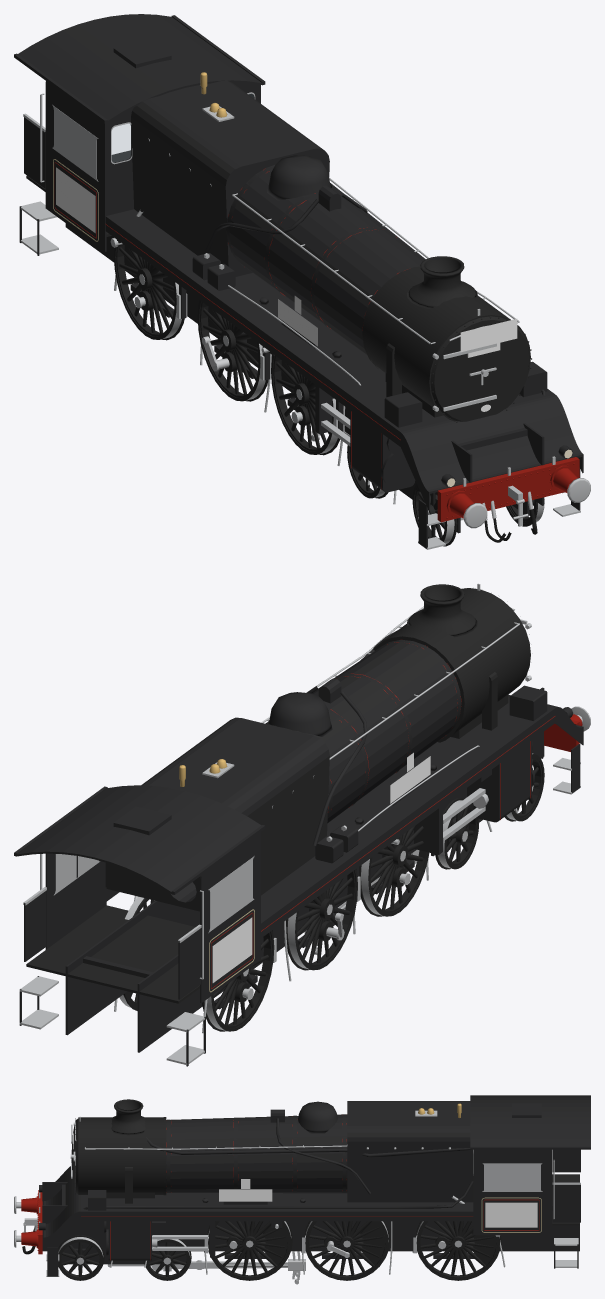
File: engine_lod1.glb
3 renders of one model, top to bottom at view 1: azimuth 30°, elevation 25°; view 2: azimuth 150°, elevation 25°; view 3: azimuth 270°, elevation 25°, orthographic. The views are drawn at different scales.
Parts seen in each view (by area): view 1: engine_static_paint_black, engine_static_smokebox, engine_static_steel, engine_static_paint_red, ws_trail_wheel, ws_drive_wheel, ws_lead_wheel, engine_static_decal_cabnum, engine_static_decal_headboard, cab_gate_R_paint_black, ws_bogieFront_wheel, engine_static_lining_red (+1 smaller); view 2: engine_static_paint_black, engine_static_smokebox, engine_static_steel, ws_drive_wheel, ws_lead_wheel, ws_trail_wheel, engine_static_decal_cabnum, ws_bogieRear_wheel, cab_gate_L_paint_black, cab_gate_R_paint_black, engine_static_lining_red, ws_bogieFront_wheel (+3 smaller); view 3: engine_static_paint_black, engine_static_smokebox, engine_static_steel, ws_drive_wheel, ws_lead_wheel, ws_trail_wheel, engine_static_decal_cabnum, ws_bogieFront_wheel, cab_gate_L_paint_black, ws_bogieRear_wheel, engine_static_lining_red, engine_static_paint_red (+5 smaller).
Part boxes in pixels (box(x1,y1,x2,y2)): engine_static_paint_black: box(14, 14, 583, 548); engine_static_smokebox: box(26, 150, 531, 422); engine_static_steel: box(20, 92, 590, 549); engine_static_paint_red: box(437, 457, 579, 522); ws_trail_wheel: box(114, 239, 184, 340); ws_drive_wheel: box(197, 300, 268, 401); ws_lead_wheel: box(271, 355, 339, 455); engine_static_decal_cabnum: box(56, 167, 95, 233); engine_static_decal_headboard: box(460, 319, 517, 352); cab_gate_R_paint_black: box(24, 117, 45, 188); ws_bogieFront_wheel: box(412, 483, 544, 546); engine_static_lining_red: box(54, 162, 407, 489); engine_static_paint_black: box(14, 629, 583, 1066); engine_static_smokebox: box(26, 584, 530, 1003); engine_static_steel: box(19, 583, 590, 1064); ws_drive_wheel: box(286, 869, 357, 970); ws_lead_wheel: box(359, 825, 429, 916); ws_trail_wheel: box(123, 898, 274, 1031); engine_static_decal_cabnum: box(212, 917, 252, 982); ws_bogieRear_wheel: box(435, 798, 478, 869); cab_gate_L_paint_black: box(24, 890, 46, 961); cab_gate_R_paint_black: box(178, 928, 200, 999); engine_static_lining_red: box(211, 642, 555, 988); ws_bogieFront_wheel: box(504, 753, 544, 821); engine_static_paint_black: box(39, 1095, 590, 1276); engine_static_smokebox: box(71, 1099, 579, 1225); engine_static_steel: box(14, 1110, 578, 1276); ws_drive_wheel: box(305, 1221, 390, 1280); ws_lead_wheel: box(207, 1221, 292, 1280); ws_trail_wheel: box(416, 1221, 501, 1280); engine_static_decal_cabnum: box(485, 1202, 537, 1227); ws_bogieFront_wheel: box(58, 1235, 104, 1280); cab_gate_L_paint_black: box(552, 1185, 580, 1222); ws_bogieRear_wheel: box(143, 1239, 191, 1280); engine_static_lining_red: box(81, 1116, 539, 1260); engine_static_paint_red: box(21, 1190, 42, 1254).
Bounding box in the file's own units: 2.82 × 4.43 × 12.64.
